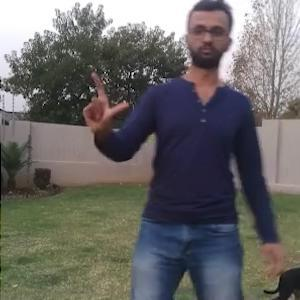land_hand: (79, 68, 134, 126)
